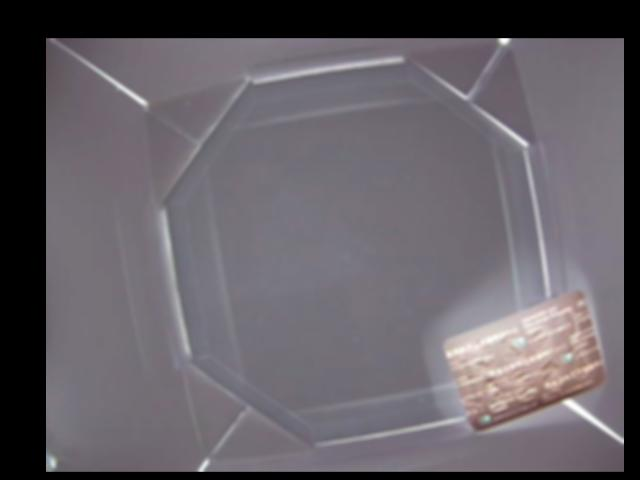Medicine: (441, 290, 606, 429)
